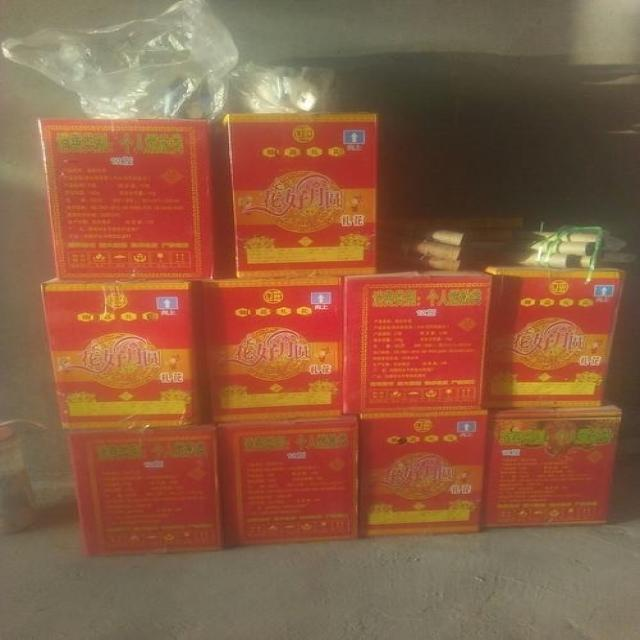box: (37, 120, 214, 279), (212, 113, 378, 281), (40, 277, 197, 429), (342, 268, 493, 414), (60, 422, 223, 556), (200, 274, 344, 422), (480, 265, 622, 409), (218, 414, 362, 549), (483, 391, 622, 530), (360, 410, 488, 540)
